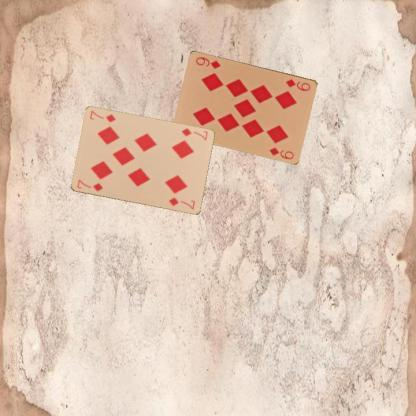7d: (74, 176, 104, 192), (179, 126, 209, 142)
9d: (283, 76, 312, 92)
